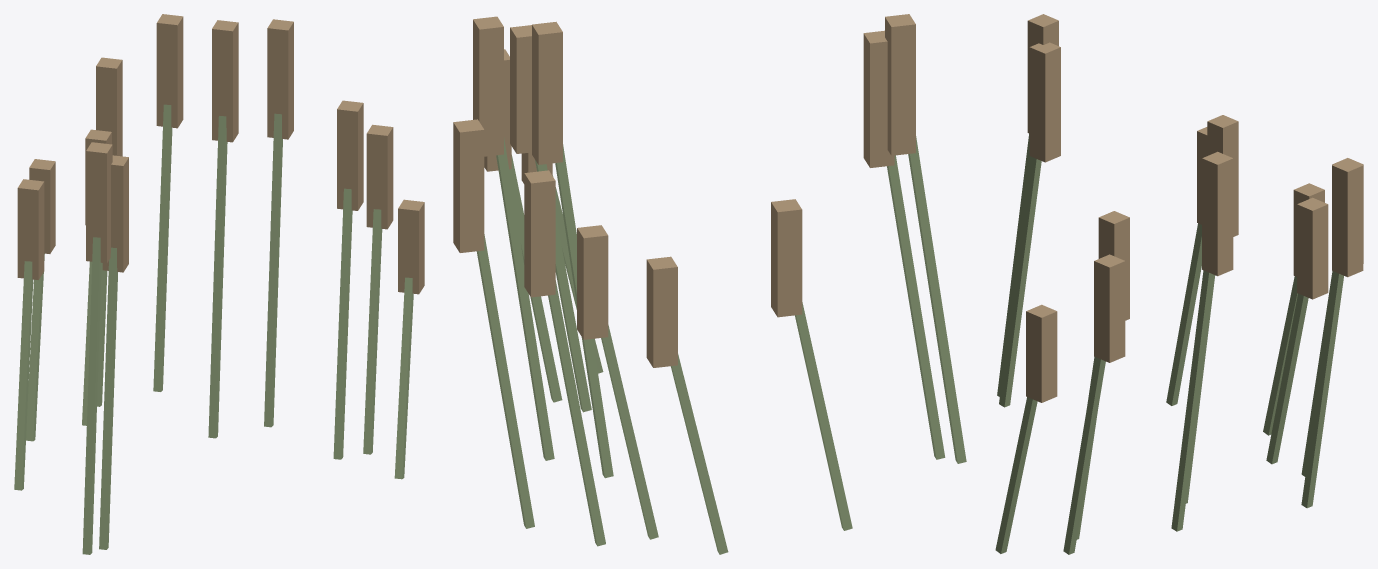
3 views of the same model, side by side, from view 1: azimuth 30°, elevation 25°; view 2: azimuth 150°, elevation 25°; view 3: azimuth 270°, elevation 25° (orthographic). The views are drawn at different scales.
Bounding box in the file's own units: 1.37 × 1.4 × 1.17.
